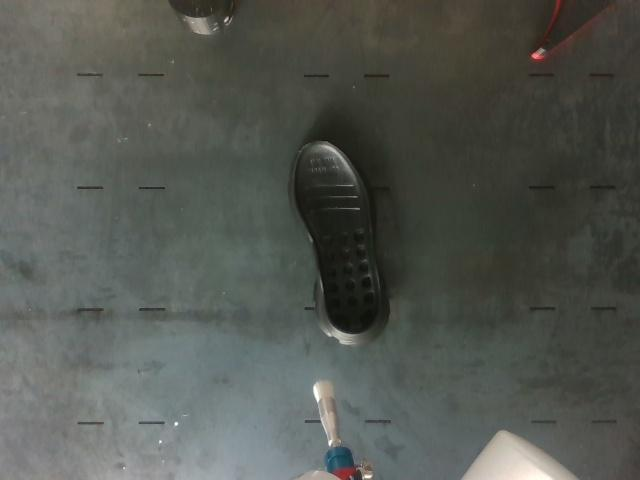shoes: (293, 142, 381, 334)
